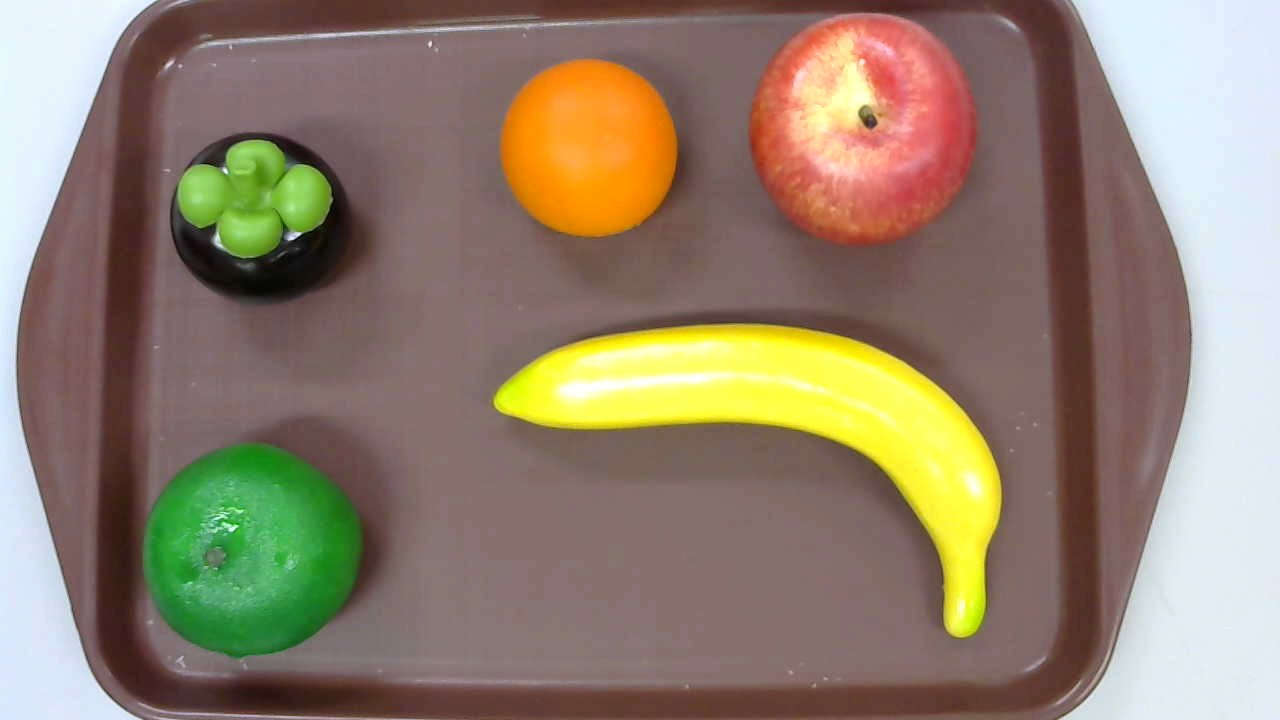banana: (493, 321, 1003, 638)
bun: (501, 56, 678, 238)
green orange: (141, 441, 360, 659)
mangosteen: (169, 131, 351, 306)
red apple: (750, 11, 978, 250)
